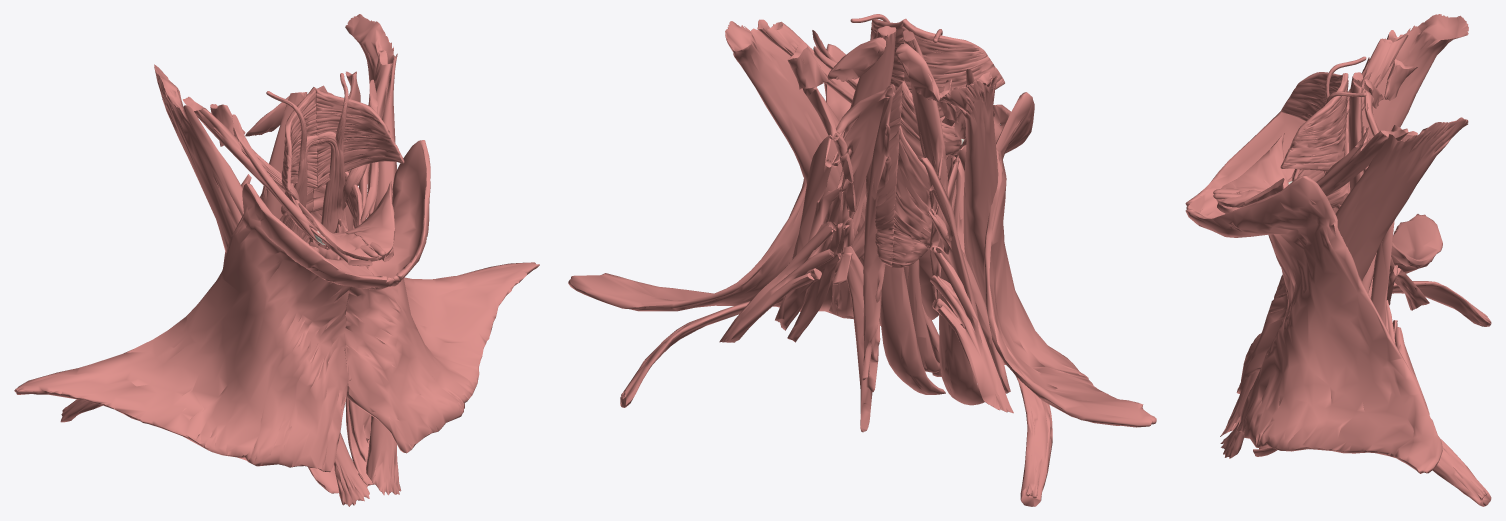
The model's file is muscles-cou.lo.glb.
The picture shows the model from 3 angles, left to right: view 1: azimuth 30°, elevation 25°; view 2: azimuth 150°, elevation 25°; view 3: azimuth 270°, elevation 25°; orthographic projection. The views are drawn at different scales.
Parts seen in each view (by area): view 1: FJ1587, FJ1558, FJ1595, FJ1573, FJ2747, FJ2759, FJ2743, FJ1562, FJ1579, FJ1598, FJ1582, FJ1583 (+8 smaller); view 2: FJ1587, FJ1573, FJ1558, FJ1595, FJ1601, FJ2752, FJ1575, FJ1594, FJ1571, FJ1586, FJ2759, FJ1572 (+18 smaller); view 3: FJ1558, FJ1573, FJ1587, FJ1595, FJ2747, FJ2759, FJ1583, FJ1565, FJ1571, FJ1586, FJ1578, FJ1579 (+8 smaller).
Part boxes in pixels (x1,y1,x2,y2): FJ1587: (14, 183, 394, 472); FJ1558: (344, 140, 539, 453); FJ1595: (154, 64, 369, 506); FJ1573: (345, 14, 401, 495); FJ2747: (314, 87, 404, 188); FJ2759: (281, 87, 317, 191); FJ2743: (317, 131, 347, 259); FJ1562: (345, 181, 395, 260); FJ1579: (183, 96, 321, 236); FJ1598: (232, 114, 321, 244); FJ1582: (260, 92, 307, 219); FJ1583: (298, 202, 378, 261); FJ1587: (936, 92, 1156, 427); FJ1573: (725, 19, 941, 376); FJ1558: (568, 44, 938, 325); FJ1595: (744, 26, 998, 305); FJ1601: (862, 87, 893, 380); FJ2752: (892, 126, 932, 267); FJ1575: (880, 264, 945, 394); FJ1594: (930, 248, 1013, 413); FJ1571: (775, 135, 841, 330); FJ1586: (954, 158, 1052, 506); FJ2759: (903, 19, 1004, 117); FJ1572: (719, 223, 835, 342); FJ1558: (1185, 175, 1442, 473); FJ1573: (1220, 117, 1468, 458); FJ1587: (1185, 111, 1442, 393); FJ1595: (1220, 14, 1468, 436); FJ2747: (1280, 73, 1348, 171); FJ2759: (1280, 72, 1348, 121); FJ1583: (1221, 133, 1288, 193); FJ1565: (1432, 439, 1491, 506); FJ1571: (1371, 220, 1397, 336); FJ1586: (1392, 281, 1491, 326); FJ1578: (1321, 128, 1408, 196); FJ1579: (1288, 33, 1408, 182).
Bounding box in the file's own units: 0.2928 × 0.2014 × 0.1471.
